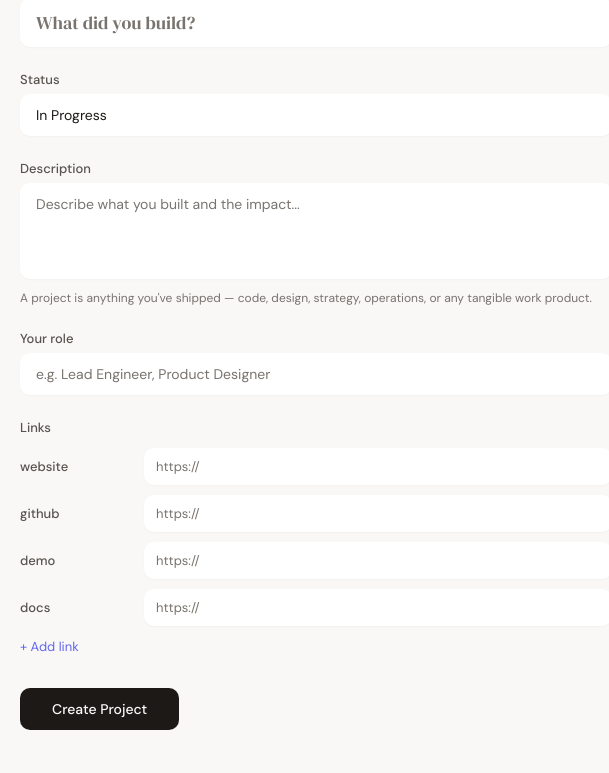
Scenario: NewProjectPage › shows a validation error when title is empty on submit
(page scrolled)
Click the button "Create Project": (100, 709) 20,688 -> 179,730
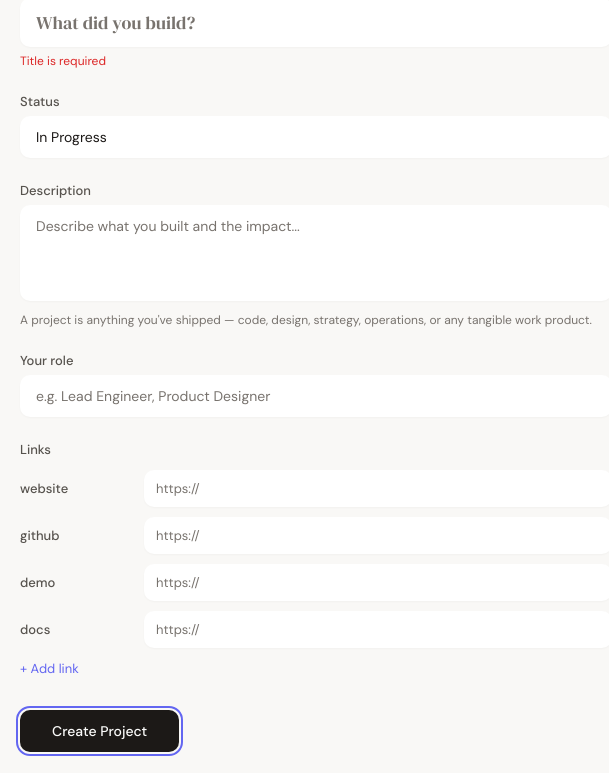
Now the text "Title is required" is shown, box 20,53 -> 106,69
